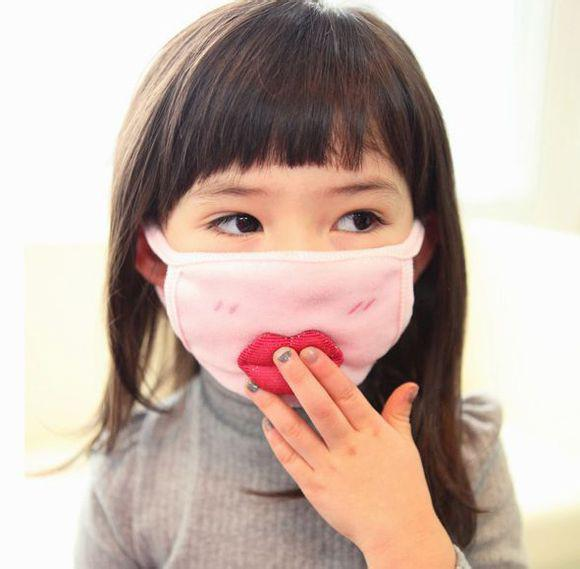OK: (188, 160, 419, 391)
